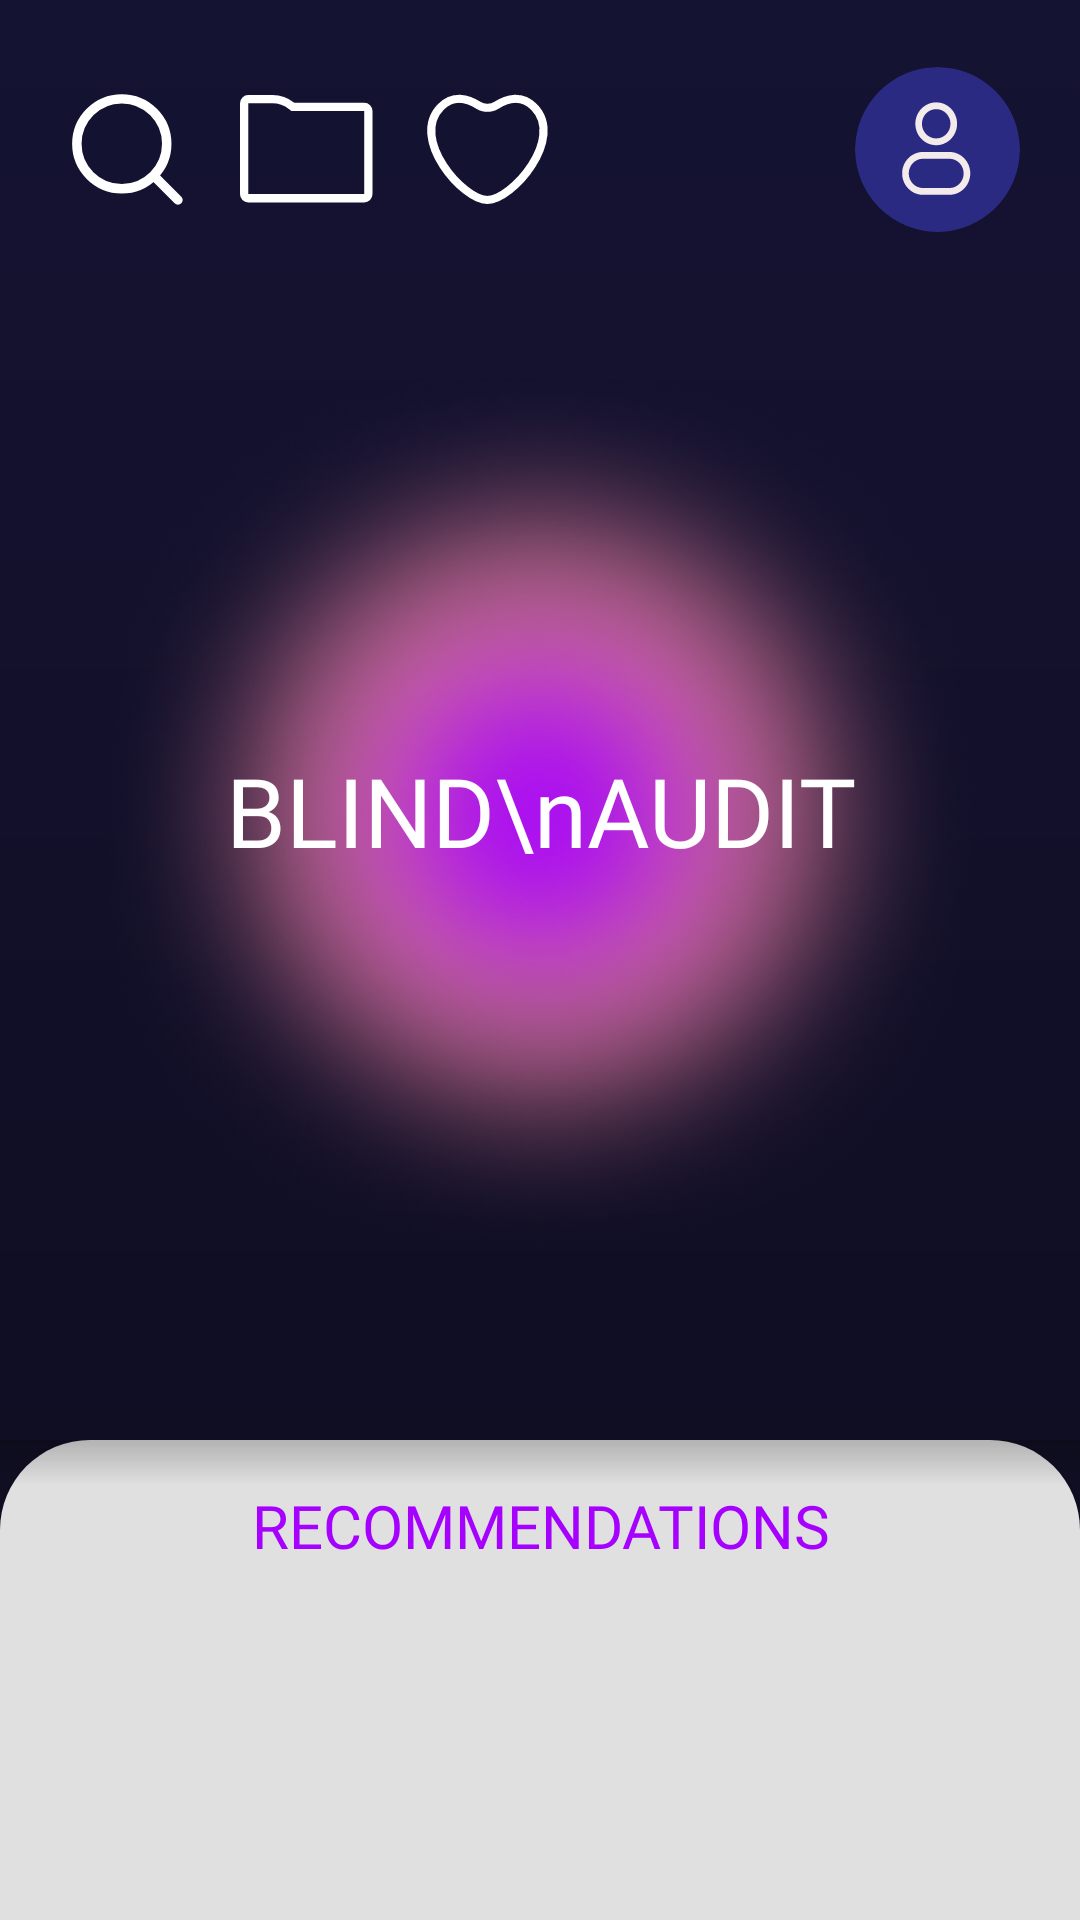

Screen size 1080×1920. Icon name, then its box in pixels as bbox(x1, y1, x2, y2):
library: bbox(240, 95, 373, 203)
liked: bbox(427, 94, 548, 204)
profile: bbox(855, 67, 1020, 232)
search: bbox(72, 94, 183, 205)
